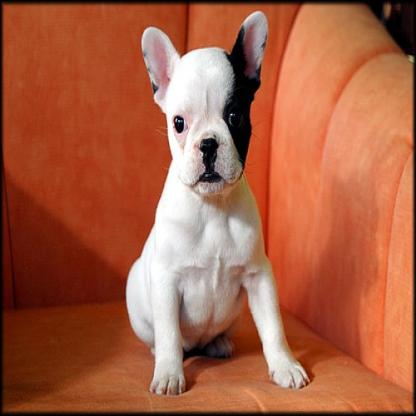French_bulldog: (124, 5, 315, 397)
